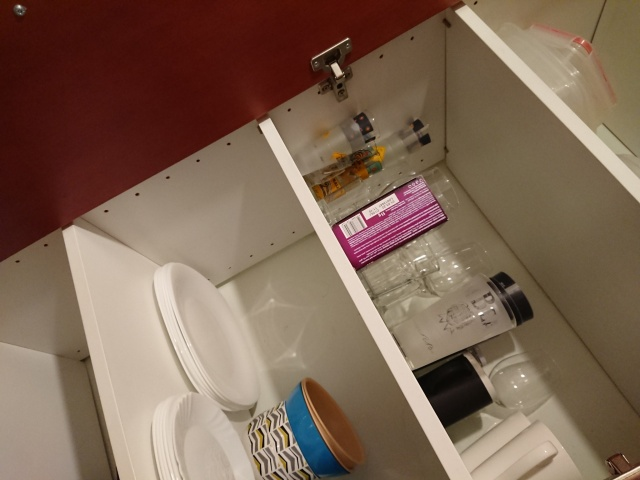Franck Black Currant Tea 60g: (329, 173, 451, 275)
